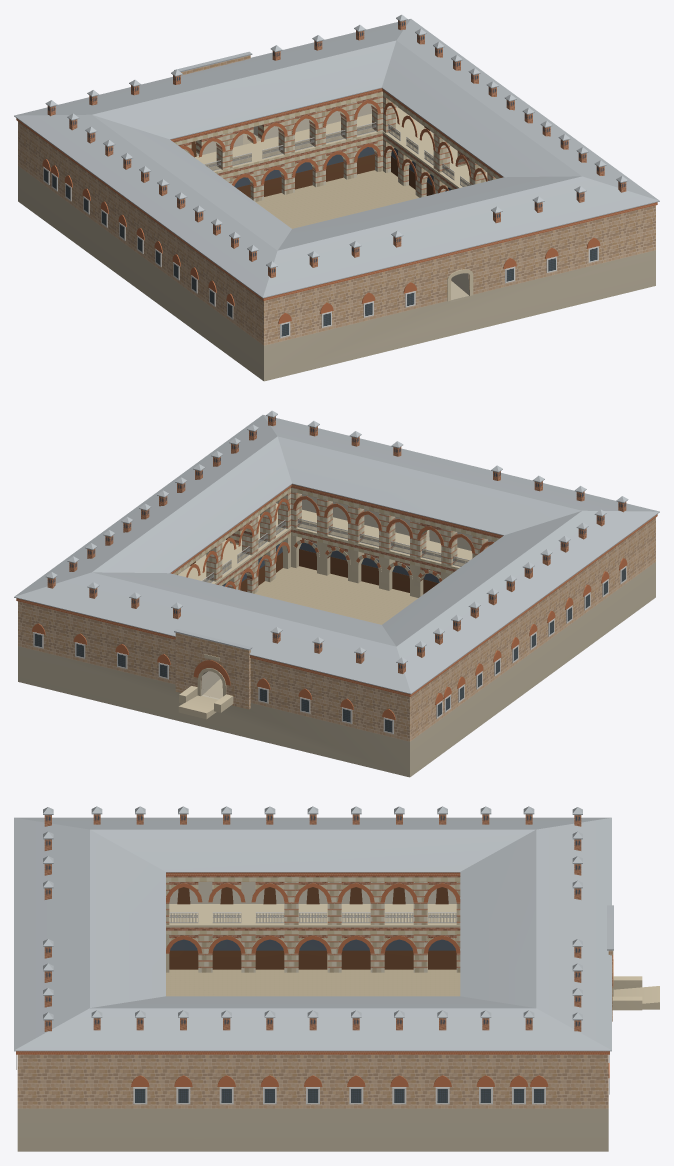
Rendered from emir-hani_v04.glb.
3 renders of one model, top to bottom at view 1: azimuth 30°, elevation 25°; view 2: azimuth 150°, elevation 25°; view 3: azimuth 270°, elevation 25°, orthographic. The views are drawn at different scales.
Visible parts, largest first — view 1: Emir_Hani, Avlu_Revaklari, Dis_Cephe, Bacalar, Han_Avlu, Girisler; view 2: Emir_Hani, Avlu_Revaklari, Dis_Cephe, Girisler, Bacalar, Han_Avlu; view 3: Emir_Hani, Avlu_Revaklari, Han_Avlu, Dis_Cephe, Bacalar, Girisler.
Part boxes in pixels (<box>): Emir_Hani: <box>14,19,659,381</box>; Avlu_Revaklari: <box>170,88,502,201</box>; Dis_Cephe: <box>16,118,657,337</box>; Bacalar: <box>45,14,628,277</box>; Han_Avlu: <box>256,170,419,228</box>; Girisler: <box>174,51,473,301</box>; Emir_Hani: <box>14,415,659,777</box>; Avlu_Revaklari: <box>171,484,503,597</box>; Dis_Cephe: <box>16,514,657,733</box>; Girisler: <box>174,629,252,719</box>; Bacalar: <box>45,410,628,673</box>; Han_Avlu: <box>254,566,417,624</box>; Emir_Hani: <box>14,817,611,1151</box>; Avlu_Revaklari: <box>166,872,460,972</box>; Han_Avlu: <box>166,954,460,996</box>; Dis_Cephe: <box>16,1051,609,1104</box>; Bacalar: <box>43,806,582,1031</box>; Girisler: <box>607,905,659,1021</box>.
Bounding box in the file's own units: 46.6 × 11.99 × 54.65.
18 materials, 8 textured.
